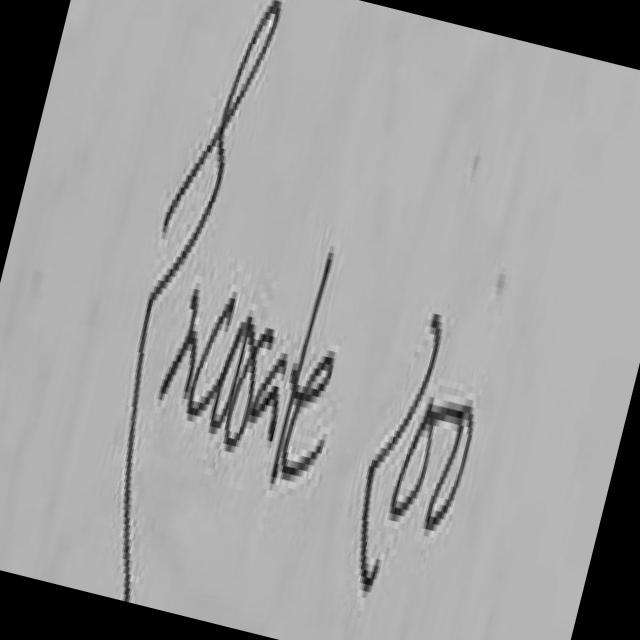0: (369, 370, 456, 561), (409, 372, 494, 546)
2: (321, 276, 473, 602)
E: (71, 0, 316, 594)
a: (236, 314, 304, 461)
c: (175, 272, 244, 442)
e: (268, 321, 354, 507)
n: (147, 266, 219, 421)
o: (194, 292, 258, 457)
r: (212, 291, 282, 468)
t: (252, 221, 344, 509)
